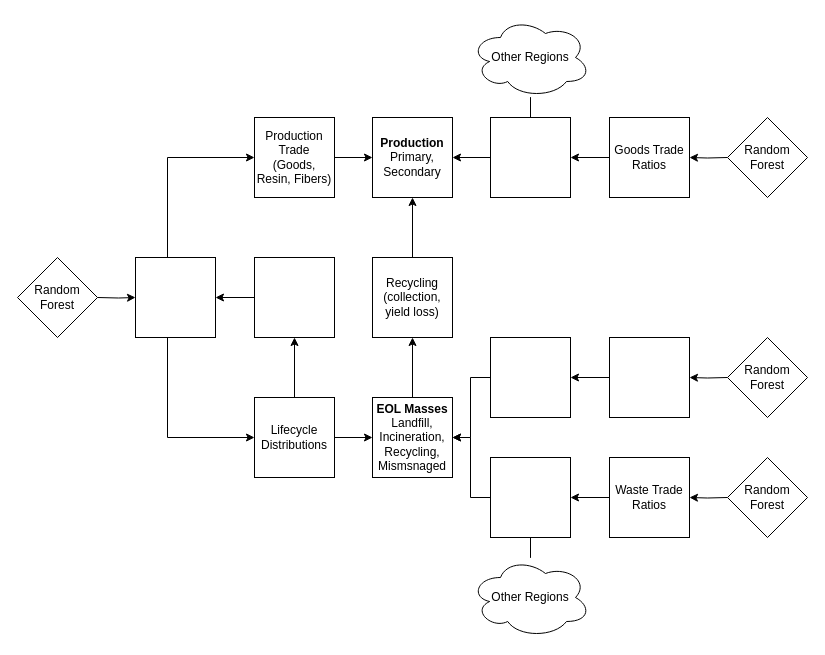
The diagram is 825 pixels wide and 655 high, and some of its shapes have lost their labels. Here are the shapes that lost their labels. From the top down, the centre of each, then its label:
At point 530,157: "Goods Trade Volumes".
At point 175,297: "Consumption Sector-Level".
At point 294,297: "Reuse".
At point 530,377: "Pre-Trade Normalized EOL Fate Volumes".
At point 649,377: "EOL Fate Percentages".
At point 530,497: "Waste Trade Volumes".
